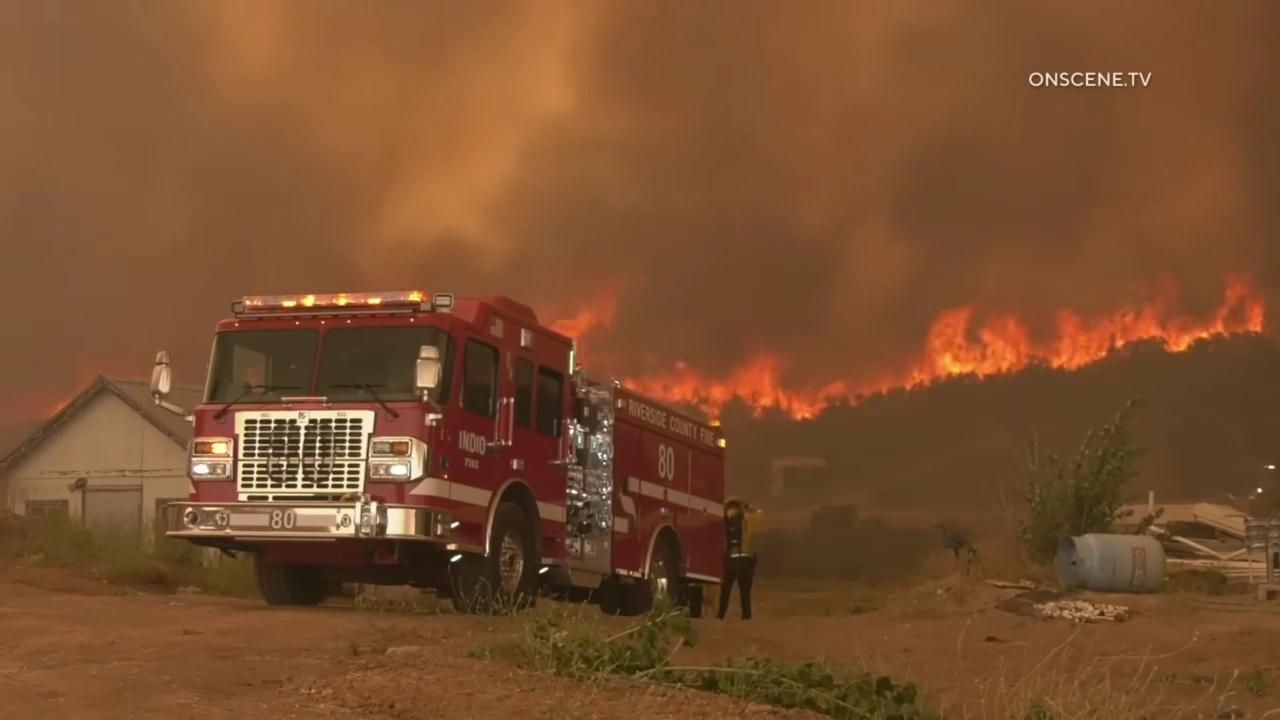fire: (623, 270, 1266, 425), (549, 289, 611, 338)
smoke: (0, 0, 1280, 378)
